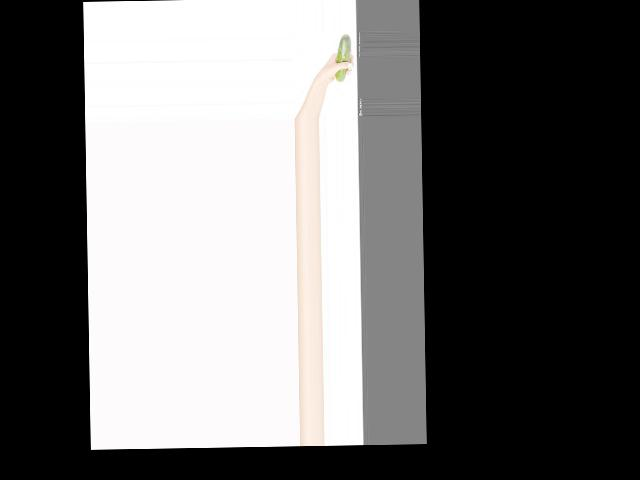cucumber: (334, 33, 352, 81)
